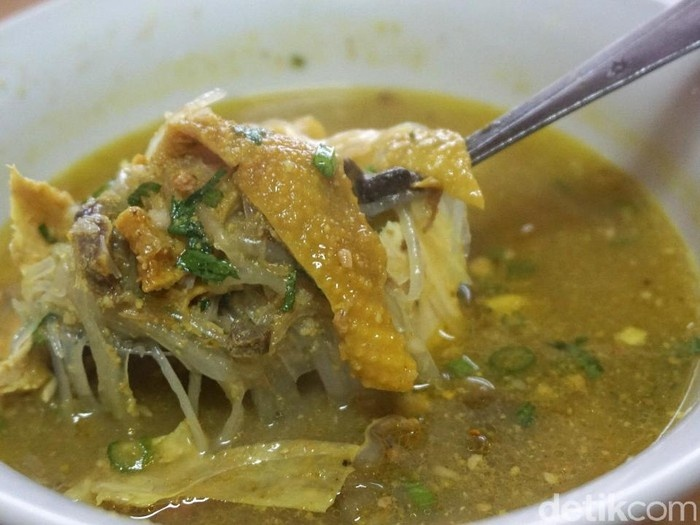soto: (33, 65, 669, 494)
